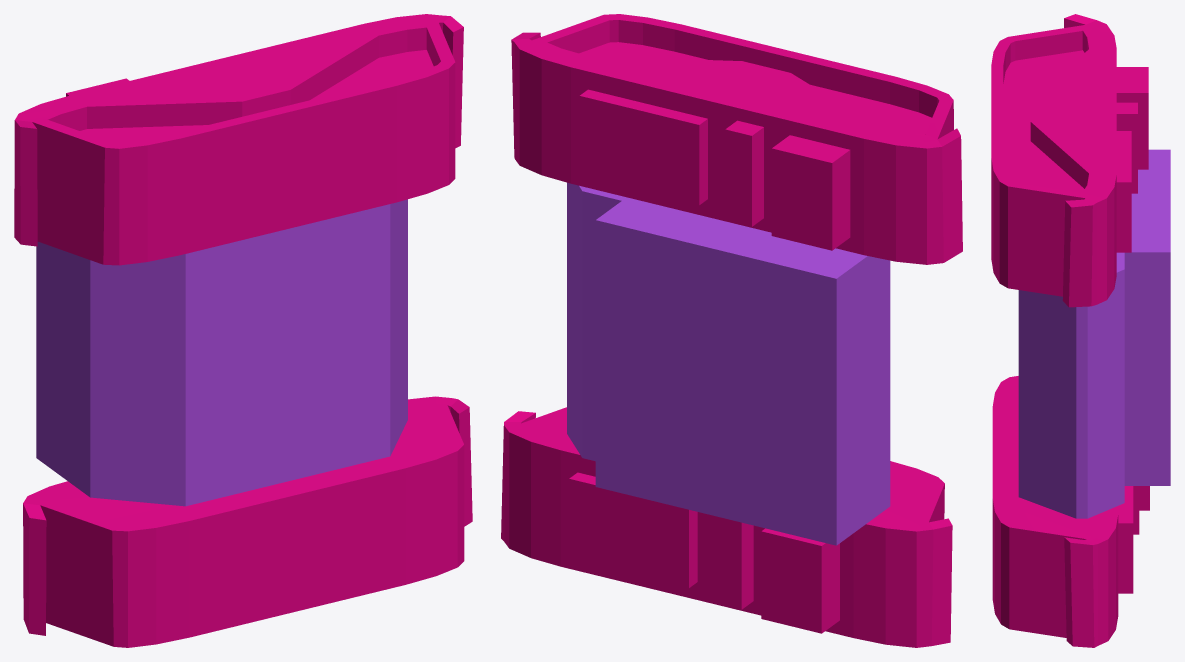
File: Enemy01Body.fbx
The picture shows the model from 3 angles, left to right: view 1: azimuth 30°, elevation 25°; view 2: azimuth 150°, elevation 25°; view 3: azimuth 270°, elevation 25°; orthographic projection. The views are drawn at different scales.
Visible parts, largest first — view 1: Body; view 2: Body; view 3: Body.
Part boxes in pixels (box(x1,y1,x2,y2)): Body: box(14, 14, 472, 647); Body: box(501, 14, 962, 647); Body: box(991, 14, 1170, 647).
Size of the model in its own units: 220 by 237 by 86.45.
Materials: 1 (1 with a texture image).
